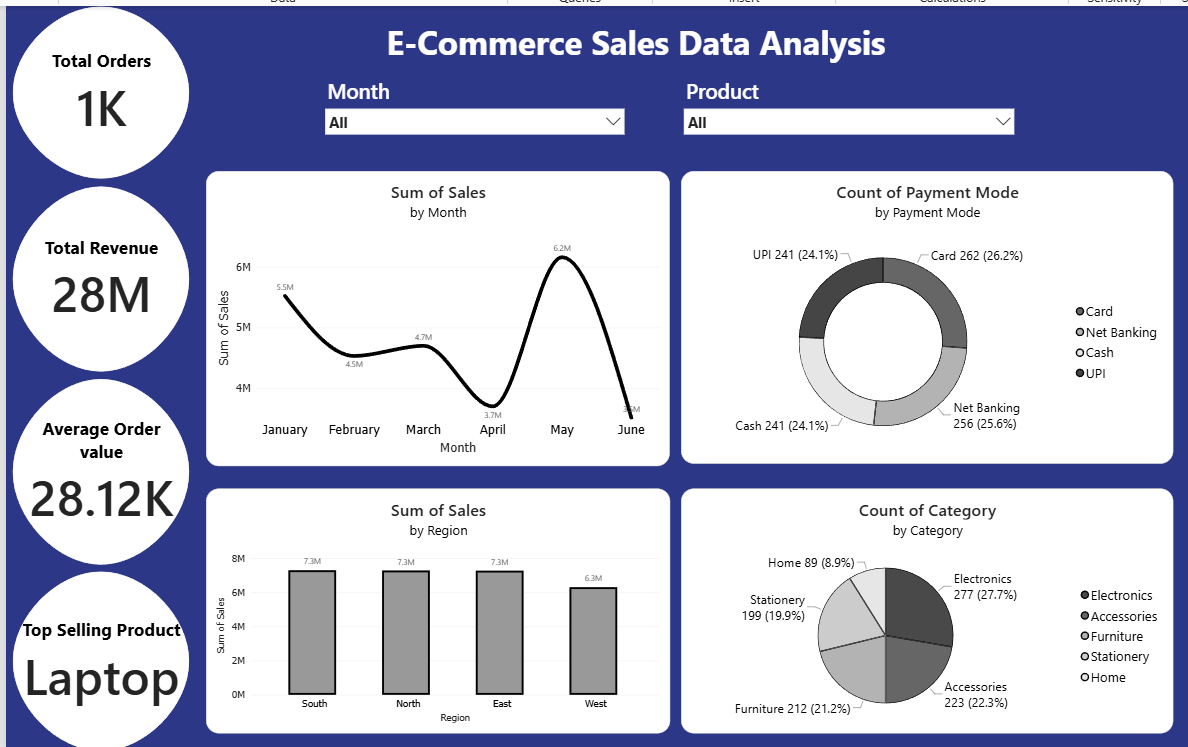

Layout of this report page (visuals, bound fields, positions):
{"tool":"powerbi","page":{"name":"Page 1","canvas":[1920,1211],"ordinal":0},"visuals":[{"type":"cardVisual","fields":{"Data":["Table 1 (sales).Total Orders"]},"box":[10.3,0,288.2,282],"z":0},{"type":"cardVisual","fields":{"Data":["Table 1 (sales).Total Revenue"]},"box":[10.3,292.3,288.2,302.6],"z":1000},{"type":"cardVisual","fields":{"Data":["Table 1 (sales).Average Order Value"]},"box":[10,605,288,303],"z":2000},{"type":"cardVisual","fields":{"Data":["Table 1 (sales).Top Selling Product"]},"box":[10,918,288,293],"z":3000},{"type":"textbox","box":[308.7,22.6,1428.5,86.4],"z":4000},{"type":"columnChart","fields":{"Category":["Table 1 (sales).Region"],"Y":["Sum(Table 1 (sales).Sales)"]},"box":[325.2,784.2,753.3,397.3],"z":5000},{"type":"pieChart","fields":{"Category":["Table 1 (sales).Category"],"Y":["CountNonNull(Table 1 (sales).Category)"]},"box":[1095.7,783.3,799.5,397.7],"z":6000},{"type":"slicer","fields":{"Values":["Table 1 (sales).Order Date.Variation.Date Hierarchy.Month"]},"box":[513.4,115.7,495.1,158.3],"z":7000},{"type":"slicer","fields":{"Values":["Table 1 (sales).Product"]},"box":[1095.7,115.7,545.8,146.1],"z":8000},{"type":"lineChart","fields":{"Y":["Sum(Table 1 (sales).Sales)"],"Category":["Table 1 (sales).Order Date.Variation.Date Hierarchy.Month"]},"box":[324.7,267.8,752.8,478.9],"z":9000},{"type":"donutChart","fields":{"Category":["Table 1 (sales).Payment Mode"],"Y":["CountNonNull(Table 1 (sales).Payment Mode)"]},"box":[1095.7,267.8,799.5,474.8],"z":9001}]}

Visuals, with their boxes in screenshot pixels (x1, y1, x2, y2):
cardVisual - Table 1 (sales).Total Orders: (x1=3, y1=0, x2=185, y2=165)
cardVisual - Table 1 (sales).Total Revenue: (x1=3, y1=172, x2=185, y2=362)
cardVisual - Table 1 (sales).Average Order Value: (x1=3, y1=368, x2=184, y2=559)
cardVisual - Table 1 (sales).Top Selling Product: (x1=3, y1=565, x2=184, y2=746)
textbox: (x1=191, y1=2, x2=1090, y2=56)
columnChart - Table 1 (sales).Region x Sum(Table 1 (sales).Sales): (x1=202, y1=481, x2=676, y2=731)
pieChart - Table 1 (sales).Category x CountNonNull(Table 1 (sales).Category): (x1=687, y1=481, x2=1187, y2=731)
slicer - Table 1 (sales).Order Date.Variation.Date Hierarchy.Month: (x1=320, y1=60, x2=632, y2=160)
slicer - Table 1 (sales).Product: (x1=687, y1=60, x2=1030, y2=152)
lineChart - Sum(Table 1 (sales).Sales) x Table 1 (sales).Order Date.Variation.Date Hierarchy.Month: (x1=201, y1=156, x2=675, y2=458)
donutChart - Table 1 (sales).Payment Mode x CountNonNull(Table 1 (sales).Payment Mode): (x1=687, y1=156, x2=1187, y2=455)
